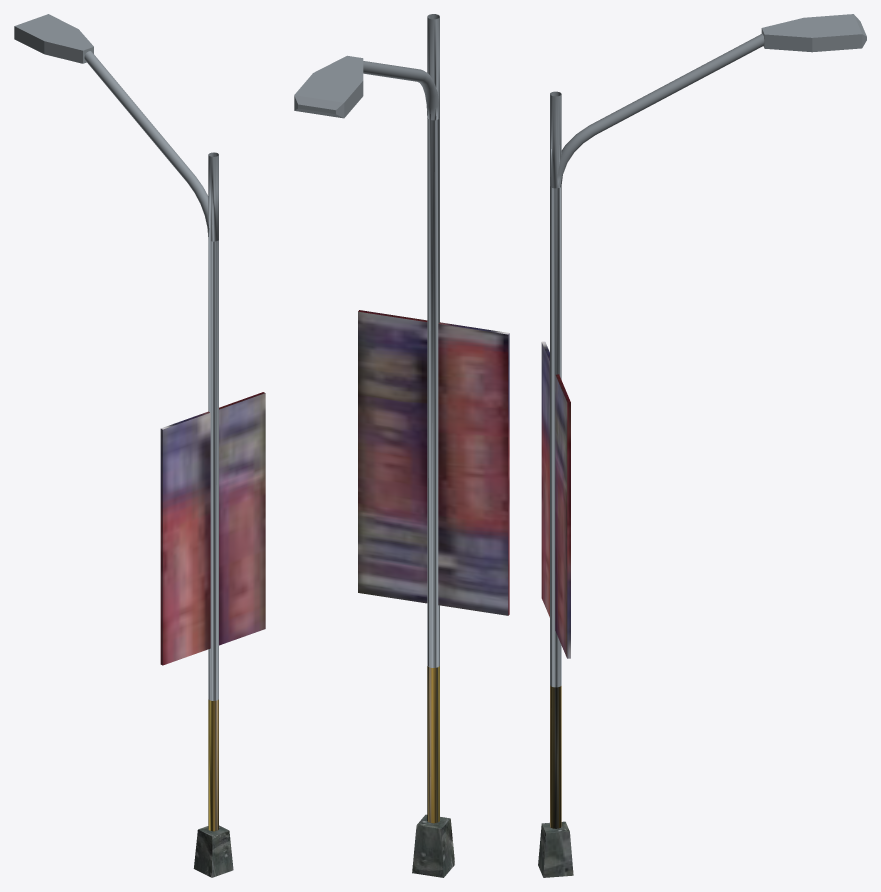
File: LightLamp7.fbx
3 views of the same model, side by side, from view 1: azimuth 30°, elevation 25°; view 2: azimuth 150°, elevation 25°; view 3: azimuth 270°, elevation 25° (orthographic). The views are drawn at different scales.
Parts seen in each view (by area): view 1: LightLamp7; view 2: LightLamp7; view 3: LightLamp7.
Part boxes in pixels (left/top/right/bottom): LightLamp7: left=14, top=14, right=265, bottom=877; LightLamp7: left=294, top=14, right=509, bottom=877; LightLamp7: left=538, top=14, right=866, bottom=877.
Size of the model in its own units: 0.9478 by 5.76 by 2.08.
Materials: 1 (1 with a texture image).
